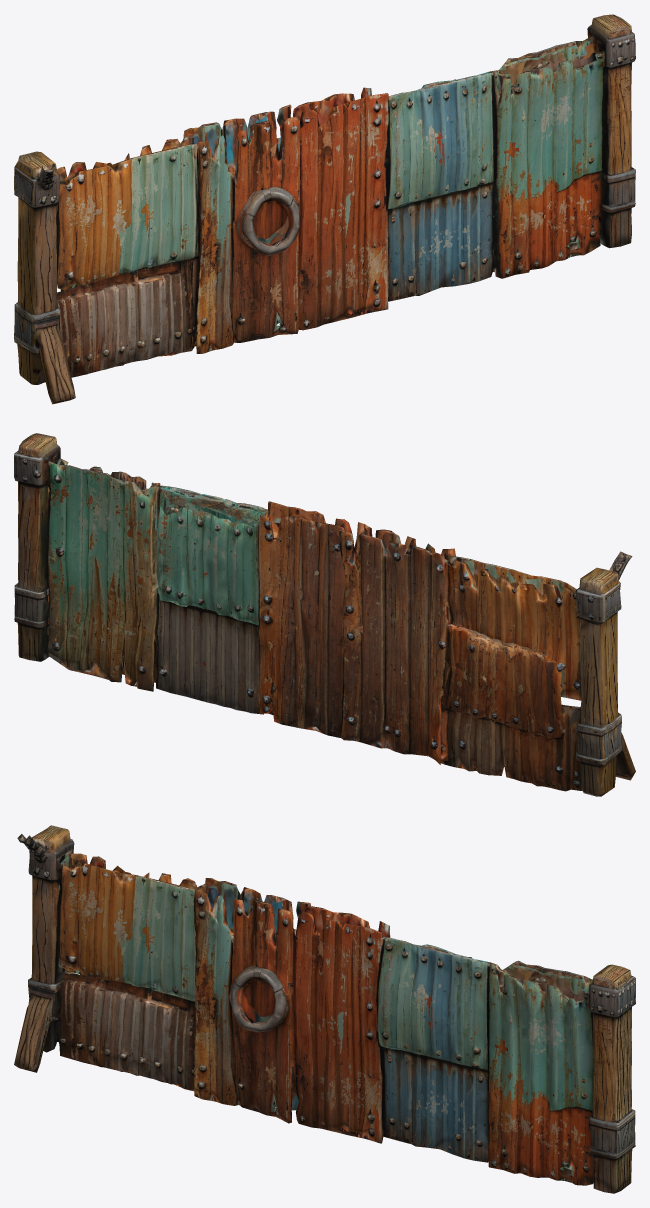
Rendered from Settle_Wall.fbx.
The picture shows the model from 3 angles, top to bottom: view 1: azimuth 30°, elevation 25°; view 2: azimuth 150°, elevation 25°; view 3: azimuth 330°, elevation 25°; orthographic projection. The views are drawn at different scales.
Parts seen in each view (by area): view 1: texture_mapping; view 2: texture_mapping; view 3: texture_mapping.
Boxes of the visible parts, left/top/right/bottom form: texture_mapping: left=14, top=14, right=635, bottom=404; texture_mapping: left=14, top=433, right=635, bottom=796; texture_mapping: left=14, top=825, right=635, bottom=1193.
Size of the model in its own units: 0.9921 by 0.1148 by 0.3784.
Materials: 1 (1 with a texture image).
